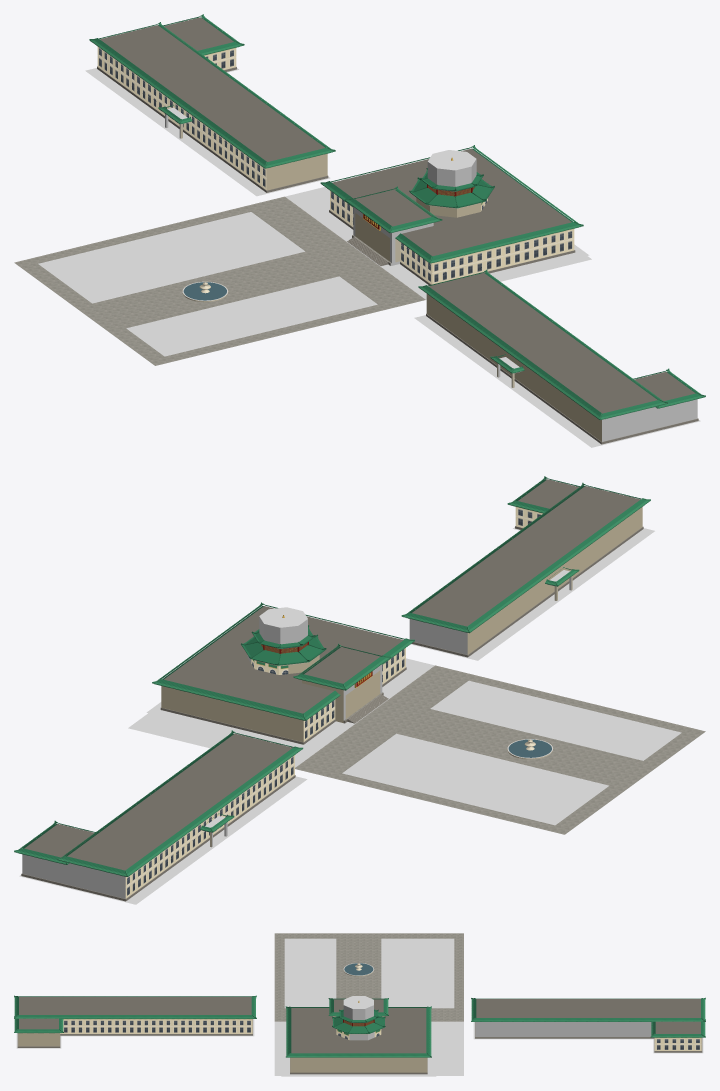
The model's file is nongzhanguan.glb.
3 renders of one model, top to bottom at view 1: azimuth 30°, elevation 25°; view 2: azimuth 150°, elevation 25°; view 3: azimuth 270°, elevation 25°, orthographic. The views are drawn at different scales.
Visible parts, largest first — view 1: Massing, Halls, CLEAR_court, FOOTPRINT_hall3.0, FOOTPRINT_hall2.0, COL_pavilion, COL_hall3.0, Pavilion, COL_hall3.1; view 2: Massing, Halls, CLEAR_court, FOOTPRINT_hall3.0, FOOTPRINT_hall2.0, COL_pavilion, COL_hall2.0, COL_hall3.0, COL_hall2.1, Pavilion; view 3: Massing, Halls, CLEAR_court, COL_hall2.0, COL_pavilion, FOOTPRINT_hall3.0, FOOTPRINT_hall2.0, CLEAR_around, Pavilion.
Boxes of the visible parts, left/top/right/bottom form: Massing: left=99, top=17, right=696, bottom=441; Halls: left=14, top=14, right=705, bottom=444; CLEAR_court: left=38, top=187, right=591, bottom=356; FOOTPRINT_hall3.0: left=414, top=315, right=661, bottom=447; FOOTPRINT_hall2.0: left=85, top=68, right=330, bottom=196; COL_pavilion: left=427, top=150, right=476, bottom=186; COL_hall3.0: left=602, top=407, right=659, bottom=441; Pavilion: left=409, top=157, right=494, bottom=207; COL_hall3.1: left=659, top=399, right=697, bottom=427; Massing: left=23, top=479, right=642, bottom=870; Halls: left=14, top=476, right=705, bottom=901; CLEAR_court: left=128, top=658, right=681, bottom=825; FOOTPRINT_hall3.0: left=411, top=528, right=654, bottom=660; FOOTPRINT_hall2.0: left=62, top=776, right=307, bottom=904; COL_pavilion: left=259, top=607, right=307, bottom=644; COL_hall2.0: left=65, top=863, right=125, bottom=898; COL_hall3.0: left=409, top=619, right=467, bottom=654; COL_hall2.1: left=22, top=854, right=64, bottom=883; Pavilion: left=241, top=615, right=326, bottom=665; Massing: left=18, top=997, right=701, bottom=1072; Halls: left=14, top=933, right=705, bottom=1074; CLEAR_court: left=274, top=938, right=463, bottom=1075; COL_hall2.0: left=475, top=1022, right=651, bottom=1036; COL_pavilion: left=343, top=996, right=373, bottom=1019; FOOTPRINT_hall3.0: left=16, top=1019, right=254, bottom=1036; FOOTPRINT_hall2.0: left=473, top=1022, right=652, bottom=1039; CLEAR_around: left=281, top=1021, right=436, bottom=1076; Pavilion: left=332, top=1002, right=385, bottom=1033.
Bounding box in the file's own units: 210 × 34.24 × 428.
Materials: 17 (4 with a texture image).
